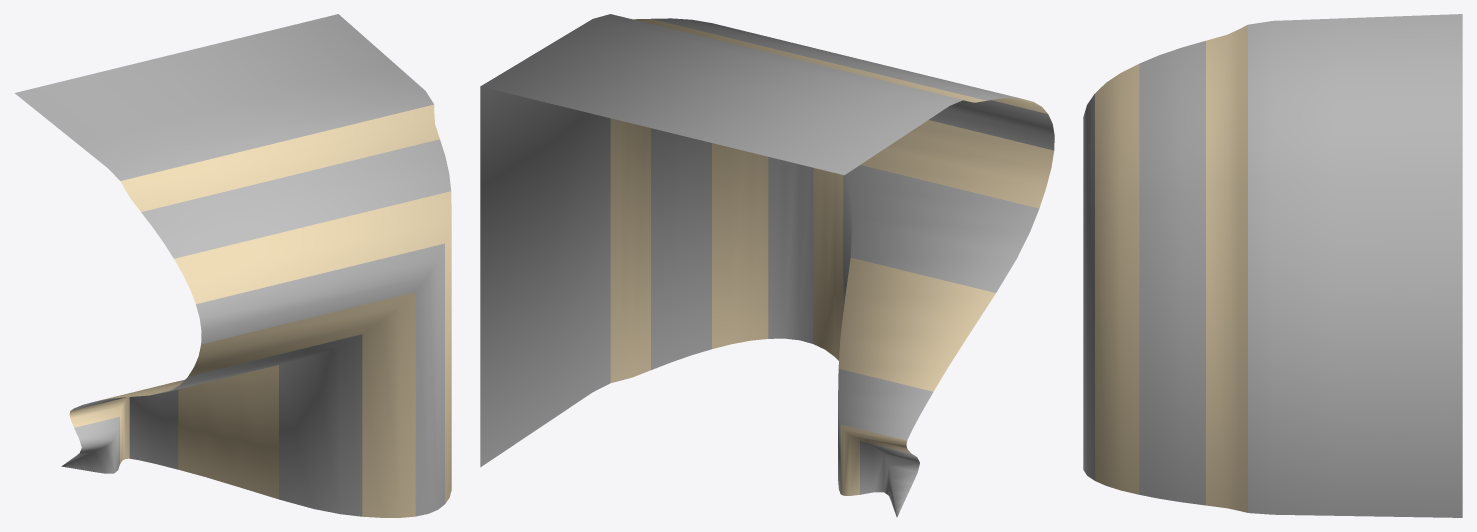
Rendered from pf_corner_a.glb.
3 views of the same model, side by side, from view 1: azimuth 30°, elevation 25°; view 2: azimuth 150°, elevation 25°; view 3: azimuth 270°, elevation 25° (orthographic). The views are drawn at different scales.
Visible parts, largest first — view 1: pf_corner_a; view 2: pf_corner_a; view 3: pf_corner_a.
Part boxes in pixels (x1,y1,x2,y2): pf_corner_a: [14, 14, 451, 517]; pf_corner_a: [480, 14, 1054, 517]; pf_corner_a: [1083, 14, 1462, 517].
Bounding box in the file's own units: 1 × 1 × 1.
